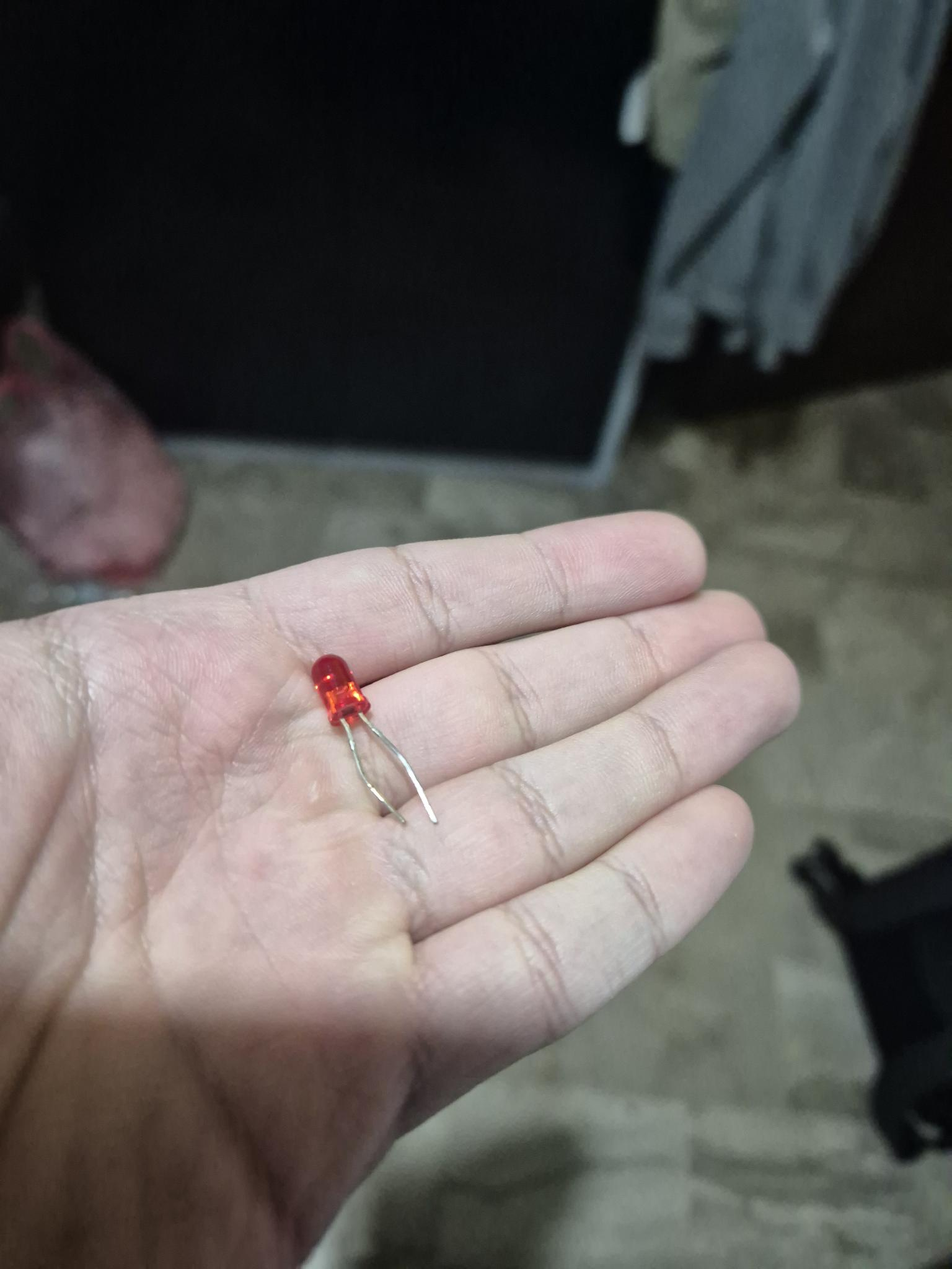led-diode: (311, 654, 438, 824)
